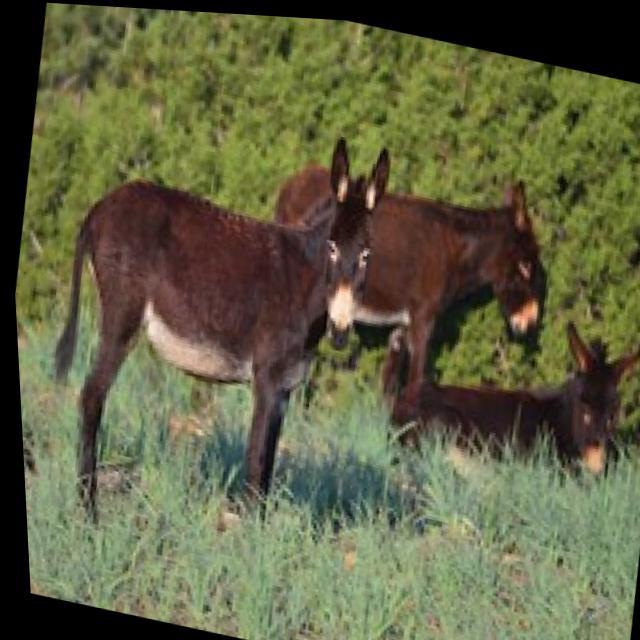Donkey: (4, 106, 388, 553), (190, 103, 593, 486), (355, 261, 640, 522)
